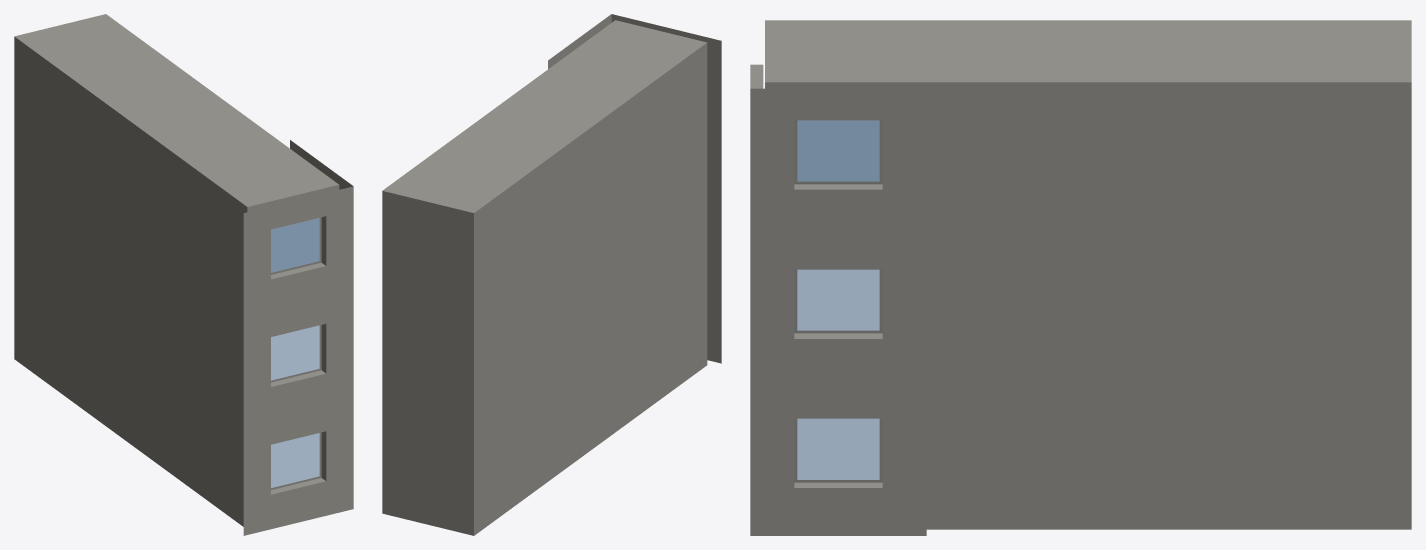
The model's file is module_corner.glb.
3 renders of one model, left to right at view 1: azimuth 30°, elevation 25°; view 2: azimuth 150°, elevation 25°; view 3: azimuth 270°, elevation 25°, orthographic. The views are drawn at different scales.
Visible parts, largest first — view 1: mass, facade_front, facade_right; view 2: mass, facade_front, facade_right; view 3: mass, facade_right.
Boxes of the visible parts, left/top/right/bottom form: mass: left=14, top=14, right=339, bottom=526; facade_front: left=243, top=186, right=353, bottom=535; facade_right: left=290, top=140, right=353, bottom=189; mass: left=382, top=20, right=707, bottom=535; facade_front: left=611, top=14, right=721, bottom=363; facade_right: left=548, top=14, right=611, bottom=68; mass: left=765, top=20, right=1411, bottom=529; facade_right: left=750, top=88, right=926, bottom=535.
Size of what is drawn, in the model's own units: 3 by 8.4 by 11.25.
